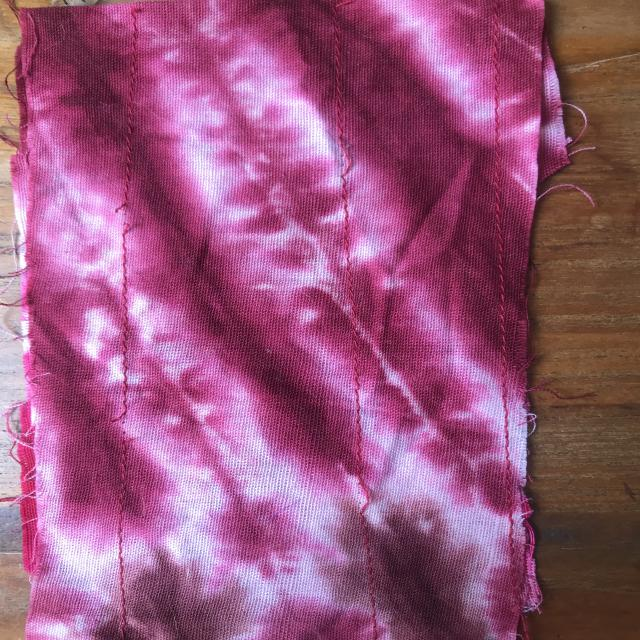broken: (101, 386, 183, 463), (96, 192, 154, 247)
skip: (316, 119, 394, 194), (332, 454, 396, 525)
